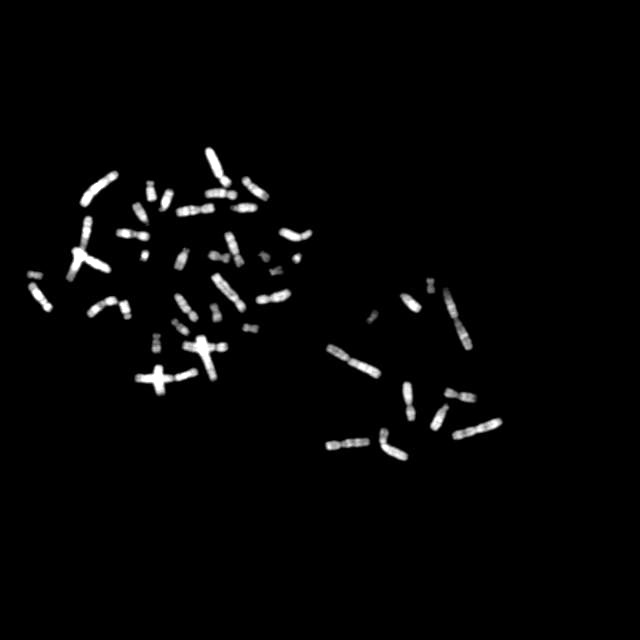chromosome: (443, 288, 473, 350), (326, 346, 380, 378), (67, 216, 93, 282), (80, 171, 118, 207), (212, 274, 244, 312), (452, 418, 503, 440), (72, 247, 110, 273), (379, 428, 408, 460), (206, 148, 230, 186), (135, 368, 199, 382), (197, 336, 217, 380), (242, 175, 270, 201), (29, 282, 53, 312), (174, 293, 198, 321), (88, 296, 119, 316), (226, 232, 244, 266), (183, 340, 229, 352), (402, 382, 416, 421), (176, 204, 214, 218), (326, 438, 370, 450), (280, 226, 312, 242), (256, 290, 292, 304), (430, 403, 448, 431), (398, 293, 422, 313), (444, 388, 476, 402), (116, 229, 150, 241), (205, 188, 237, 200), (154, 364, 166, 396), (175, 248, 191, 270), (159, 188, 173, 212), (132, 203, 148, 223), (172, 320, 190, 336), (232, 203, 256, 213), (209, 250, 229, 262), (120, 300, 132, 320), (210, 304, 222, 322), (146, 181, 156, 201), (152, 334, 162, 354), (259, 249, 271, 263), (426, 278, 436, 294), (243, 323, 259, 332), (269, 266, 283, 276), (368, 310, 378, 324), (28, 271, 42, 279), (141, 250, 149, 262), (293, 254, 301, 264)
